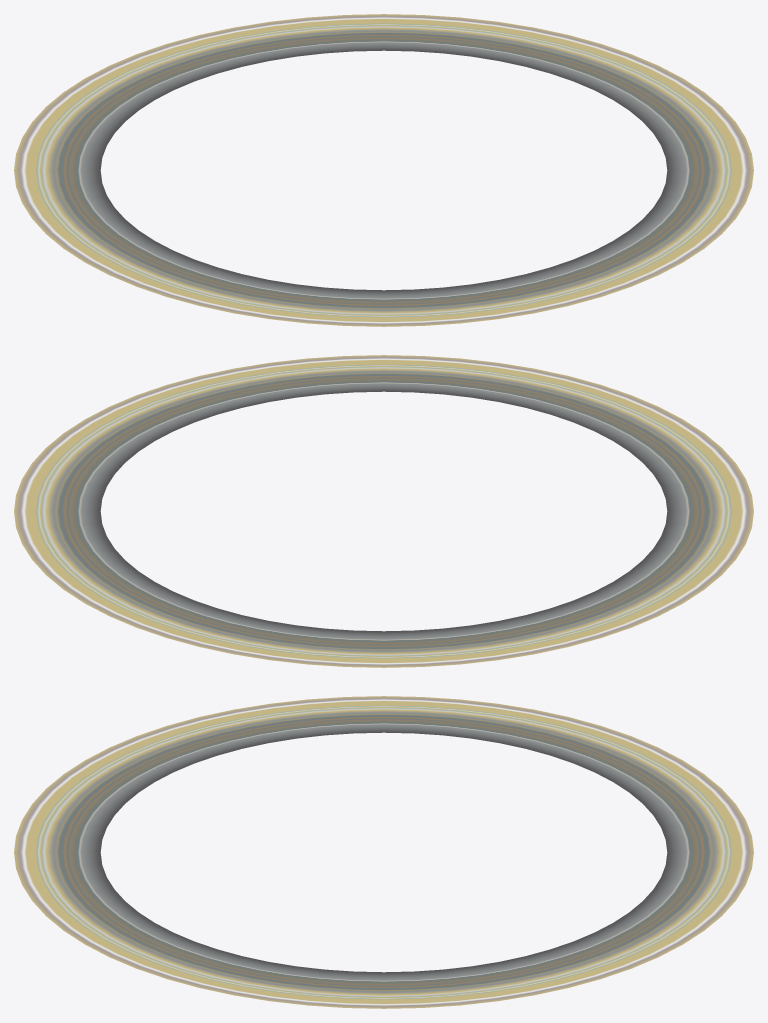
Rendered from PlanetRings.FBX.
The picture shows the model from 3 angles, top to bottom: view 1: azimuth 30°, elevation 25°; view 2: azimuth 150°, elevation 25°; view 3: azimuth 270°, elevation 25°; orthographic projection.
Parts seen in each view (by area): view 1: Plane001; view 2: Plane001; view 3: Plane001.
Boxes of the visible parts, left/top/right/bottom form: Plane001: left=14, top=14, right=753, bottom=326; Plane001: left=14, top=355, right=753, bottom=667; Plane001: left=14, top=696, right=753, bottom=1008.
Size of the model in its own units: 83.29 by 1.01e-05 by 83.29.
